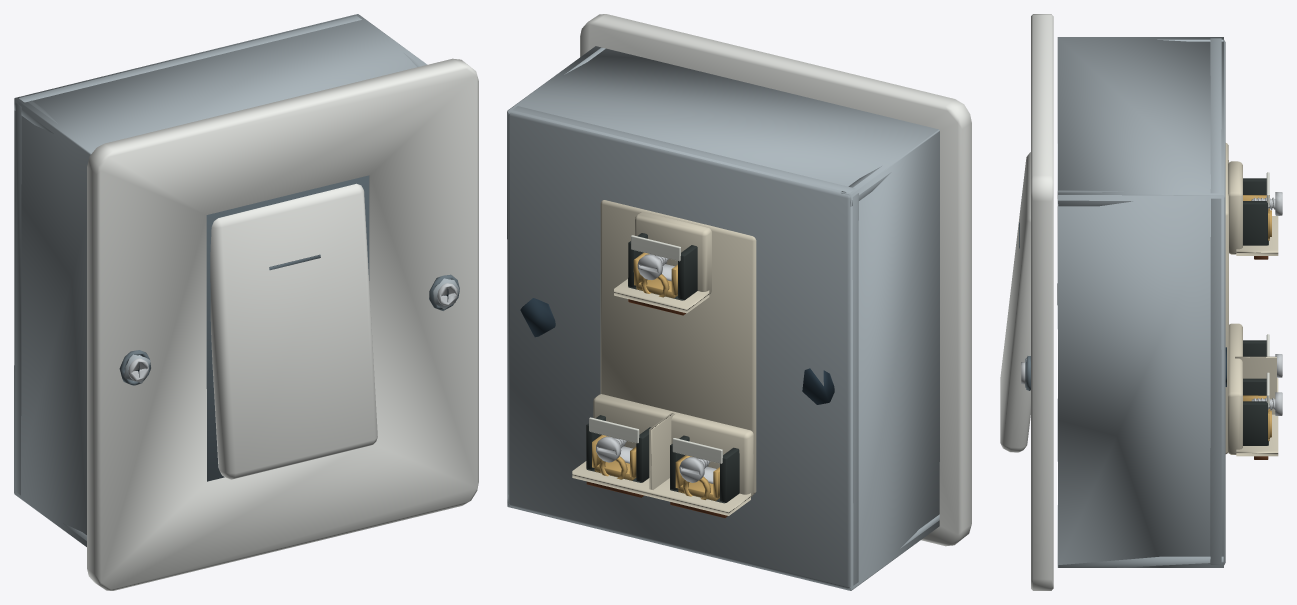
The model's file is switch2_single-rocker.low.glb.
The picture shows the model from 3 angles, left to right: view 1: azimuth 30°, elevation 25°; view 2: azimuth 150°, elevation 25°; view 3: azimuth 270°, elevation 25°; orthographic projection. The views are drawn at different scales.
Parts seen in each view (by area): view 1: part:cover, part:body · Original 2a8198d3, motion:rocker, part:actuator, detail:faceplate-fixing · Detail zinc plated fixing, part:cover · Original 0905ee26; view 2: part:body · Original 2a8198d3, part:terminals · Original 5a609f27, part:cover, part:body · Original a463fd81, detail:terminal-clamp:COM · Detail moulded engineering polym, detail:terminal-clamp:T1 · Detail moulded engineering polyme, detail:terminal-clamp:T2 · Detail moulded engineering polyme, detail:terminal-clamp:T1 · Detail machined brass, detail:terminal-clamp:T2 · Detail machined brass, detail:terminal-clamp:COM · Detail machined brass, Moulded terminal legend pad.001, Moulded terminal legend pad.002 (+4 smaller); view 3: part:body · Original 2a8198d3, part:cover, part:terminals · Original 5a609f27, motion:rocker, detail:terminal-clamp:T2 · Detail moulded engineering polyme, detail:terminal-clamp:COM · Detail moulded engineering polym, detail:terminal-clamp:T1 · Detail moulded engineering polyme.
Part boxes in pixels (bbox=[...]): part:cover: bbox=[87, 58, 478, 590]; part:body · Original 2a8198d3: bbox=[14, 14, 427, 546]; motion:rocker: bbox=[210, 183, 377, 479]; part:actuator: bbox=[206, 175, 369, 481]; detail:faceplate-fixing · Detail zinc plated fixing: bbox=[128, 283, 457, 381]; part:cover · Original 0905ee26: bbox=[119, 274, 459, 385]; part:body · Original 2a8198d3: bbox=[507, 46, 939, 590]; part:terminals · Original 5a609f27: bbox=[572, 200, 756, 515]; part:cover: bbox=[580, 14, 971, 546]; part:body · Original a463fd81: bbox=[520, 298, 834, 404]; detail:terminal-clamp:COM · Detail moulded engineering polym: bbox=[628, 233, 697, 300]; detail:terminal-clamp:T1 · Detail moulded engineering polyme: bbox=[670, 435, 739, 503]; detail:terminal-clamp:T2 · Detail moulded engineering polyme: bbox=[586, 415, 651, 482]; detail:terminal-clamp:T1 · Detail machined brass: bbox=[675, 455, 719, 500]; detail:terminal-clamp:T2 · Detail machined brass: bbox=[592, 435, 636, 480]; detail:terminal-clamp:COM · Detail machined brass: bbox=[633, 252, 677, 298]; Moulded terminal legend pad.001: bbox=[672, 438, 722, 463]; Moulded terminal legend pad.002: bbox=[589, 417, 639, 443]; part:body · Original 2a8198d3: bbox=[1057, 37, 1225, 567]; part:cover: bbox=[1031, 14, 1053, 590]; part:terminals · Original 5a609f27: bbox=[1225, 143, 1278, 456]; motion:rocker: bbox=[1000, 152, 1030, 452]; detail:terminal-clamp:T2 · Detail moulded engineering polyme: bbox=[1243, 378, 1268, 445]; detail:terminal-clamp:COM · Detail moulded engineering polym: bbox=[1243, 178, 1268, 245]; detail:terminal-clamp:T1 · Detail moulded engineering polyme: bbox=[1243, 340, 1266, 356].
Bounding box in the file's own units: 0.8902 × 0.9795 × 0.6052.
